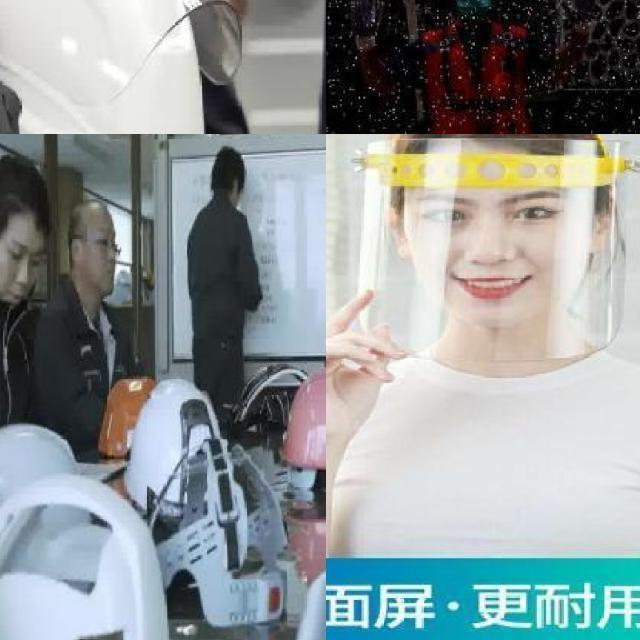apron: (347, 0, 385, 57), (557, 0, 595, 37)
